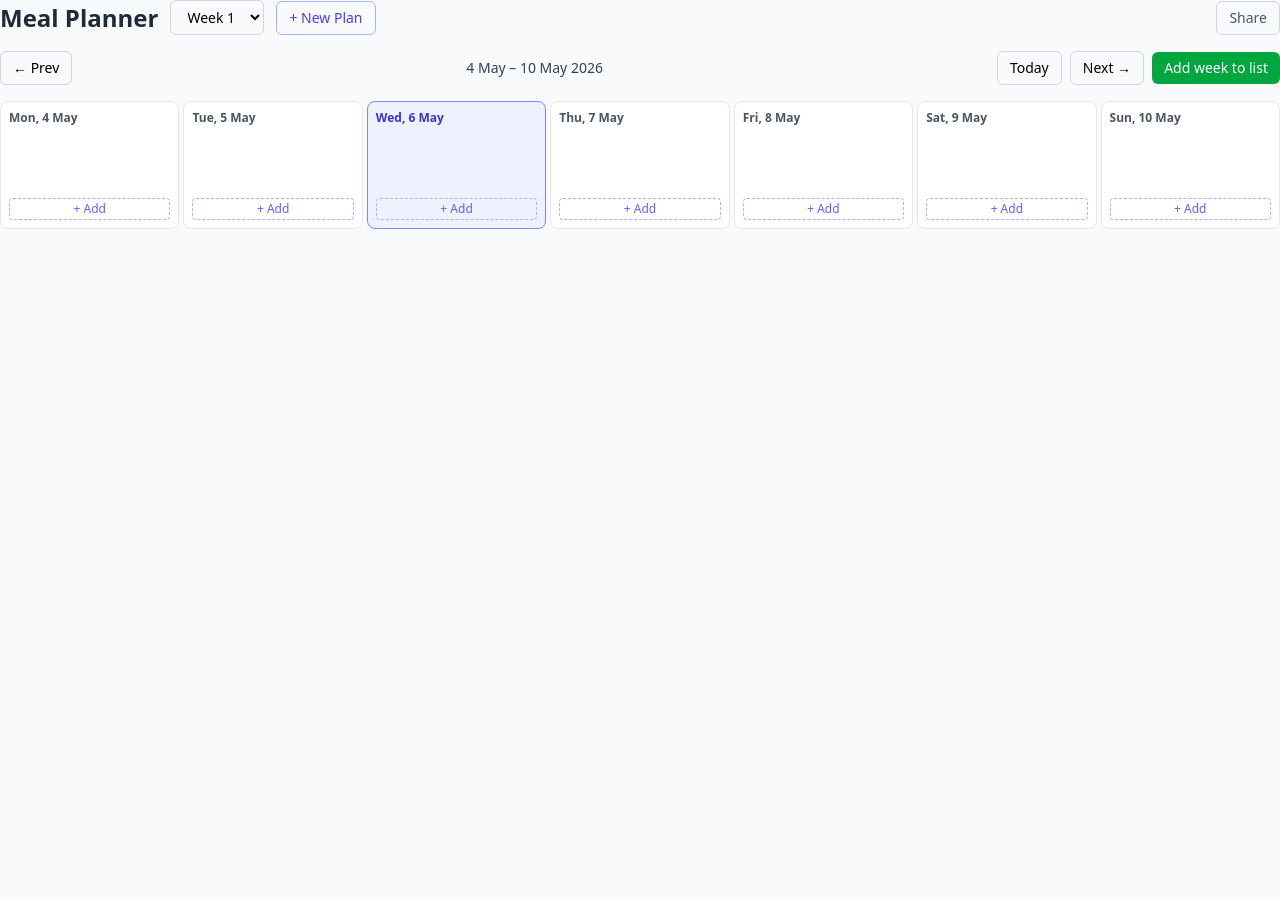
Scenario: MealPlannerPage › submitting add entry form appends entry
The width and height of the screenshot is (1280, 900).
Click the button "+ Add" below "Mon, 4 May".
click(90, 209)  # box [9,198,170,220]
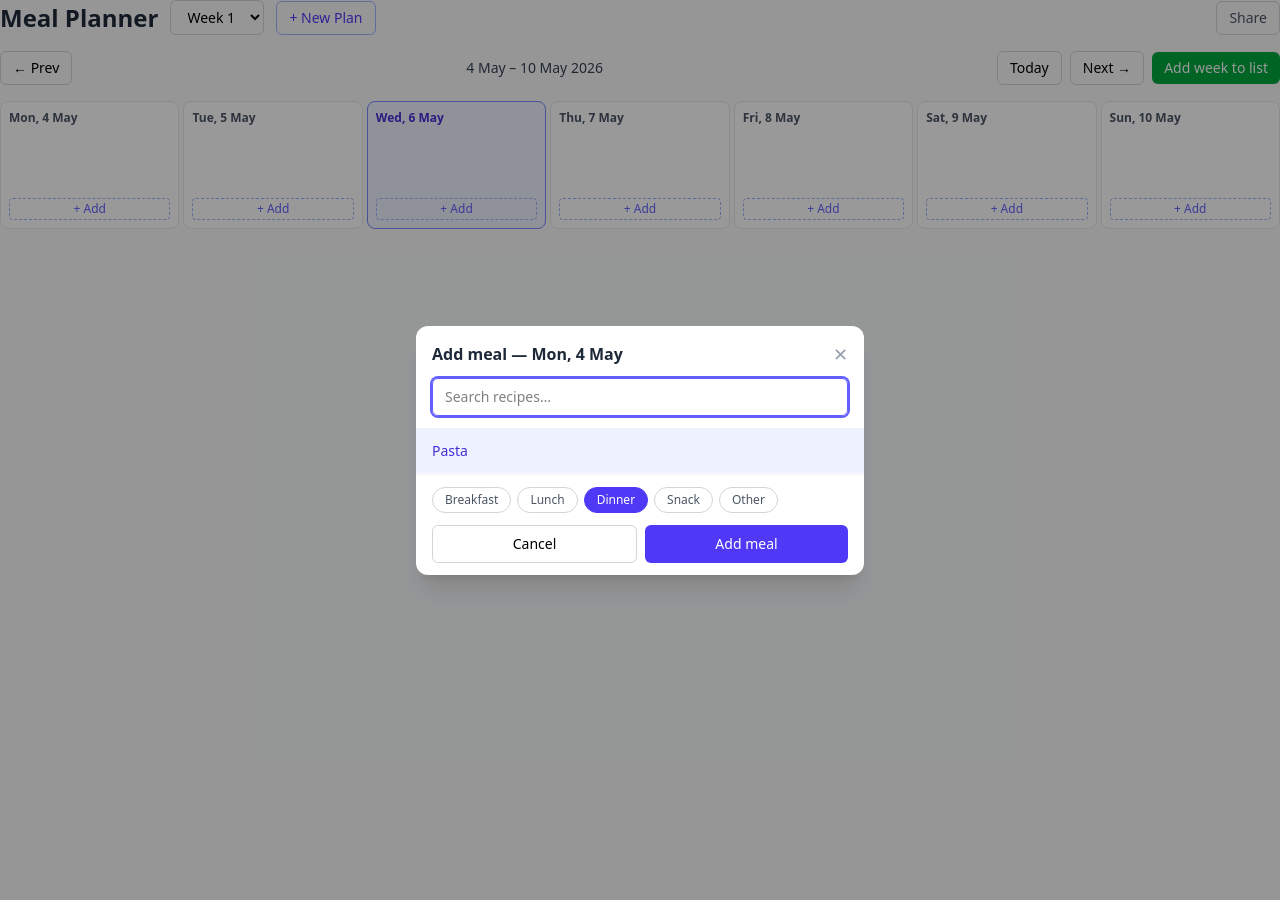
Click the button "Add meal".
click(746, 544)  # box [645,524,848,562]
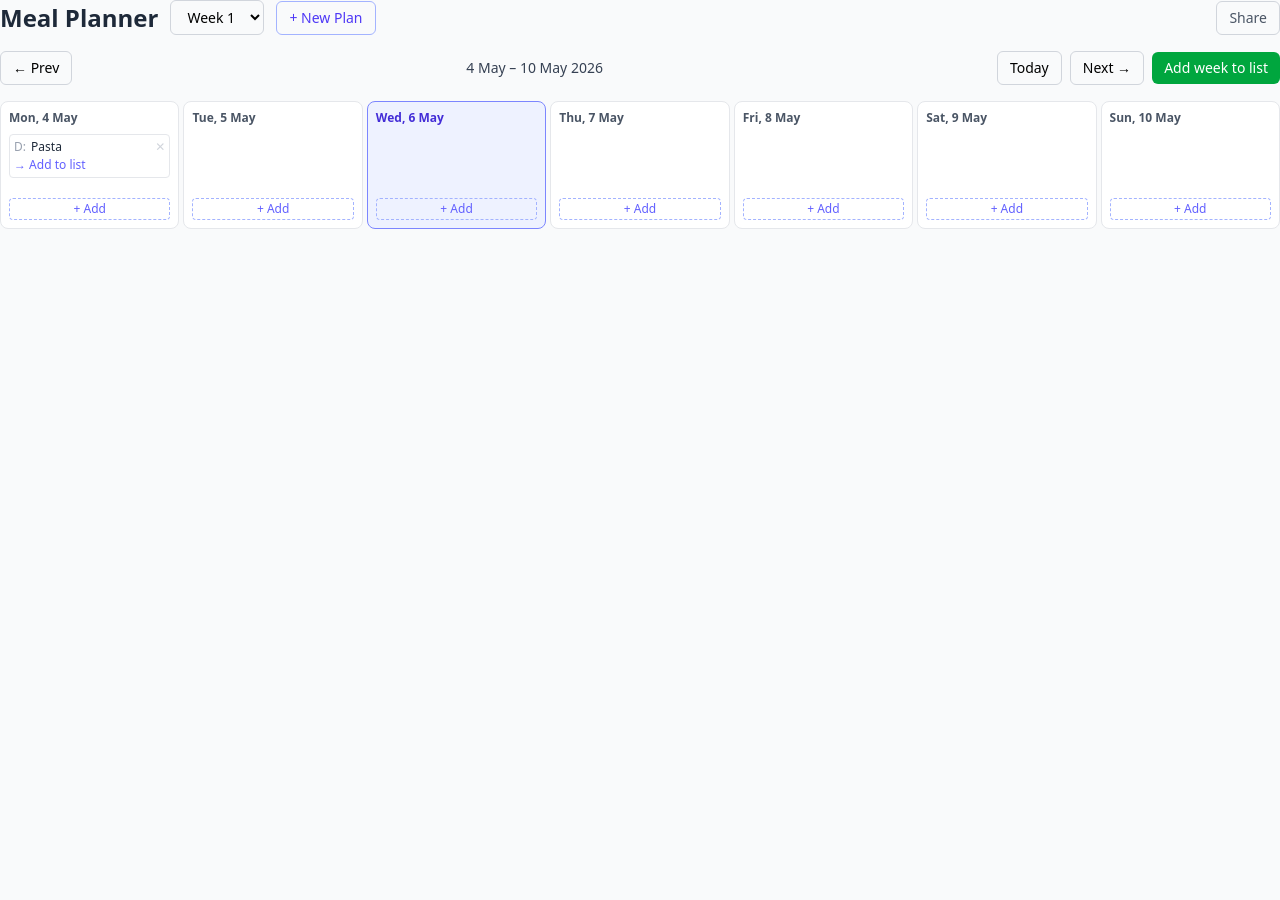
Result: the text "Pasta" is shown at [31,138,62,155]
